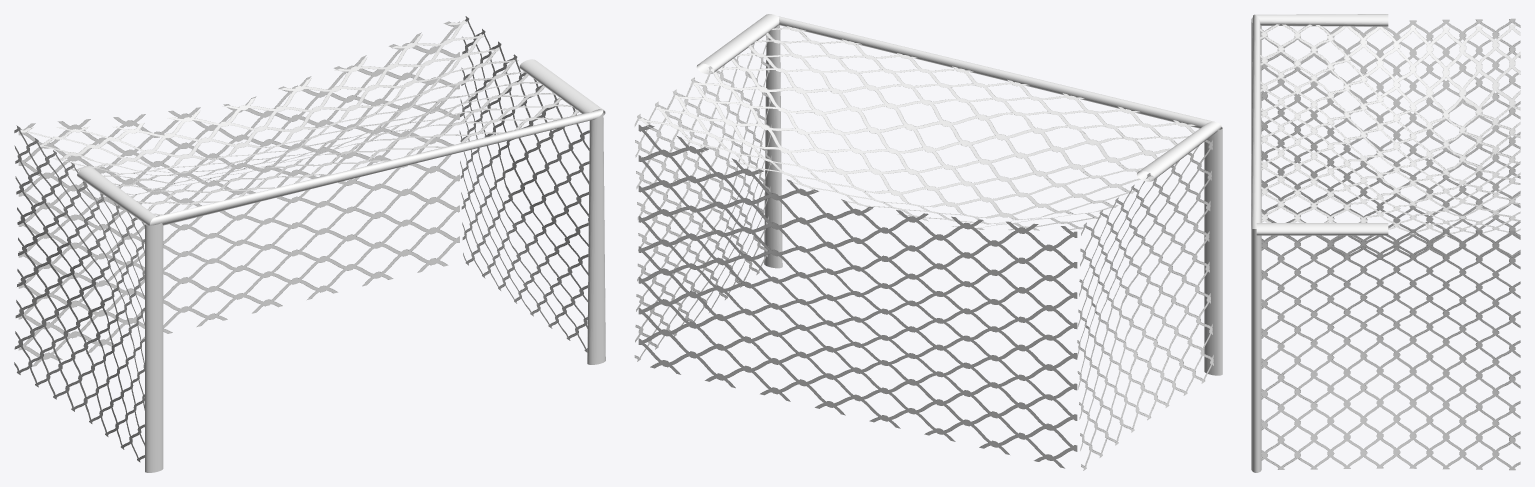
File: goalPost.fbx
The picture shows the model from 3 angles, left to right: view 1: azimuth 30°, elevation 25°; view 2: azimuth 150°, elevation 25°; view 3: azimuth 270°, elevation 25°; orthographic projection. The views are drawn at different scales.
Parts seen in each view (by area): view 1: GoalPost; view 2: GoalPost; view 3: GoalPost.
Part boxes in pixels (x1,y1,x2,y2): GoalPost: (14, 16, 605, 472); GoalPost: (634, 14, 1222, 470); GoalPost: (1251, 14, 1520, 472).
Bounding box in the file's own units: 389 × 204 × 204.
Materials: 2 (1 with a texture image).
